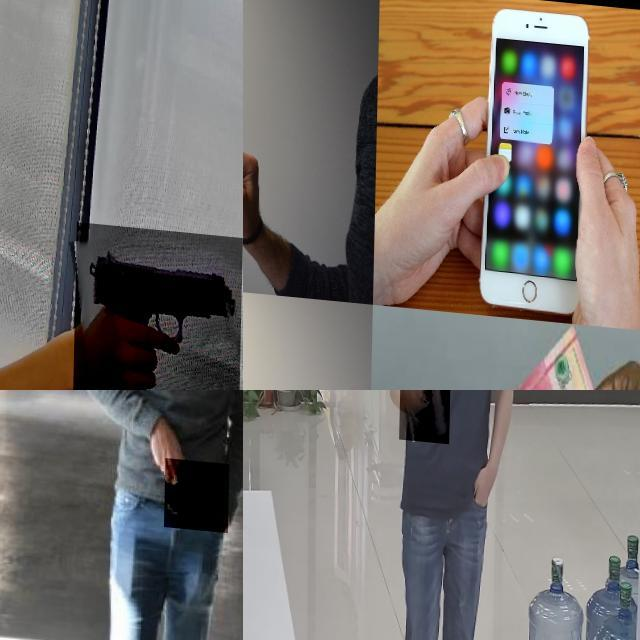-: (166, 452, 230, 526)
gun-knife-thesis - v11 Yolov5 augmented: (75, 216, 243, 390), (400, 390, 452, 443)
